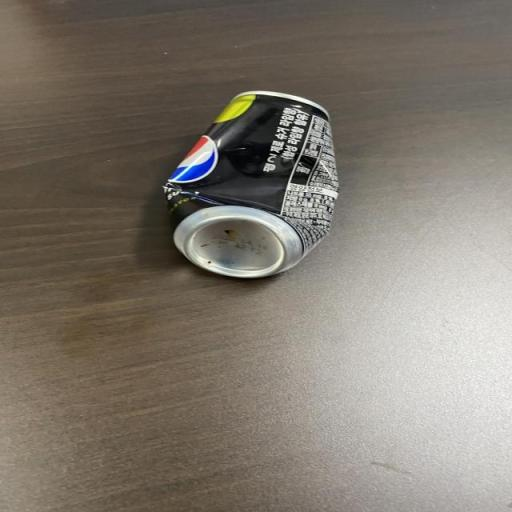metal: (142, 58, 364, 328)
